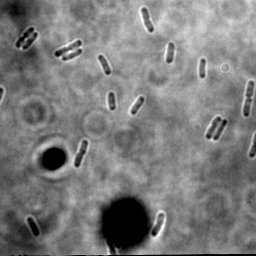Dividing: (54, 39, 82, 58), (73, 138, 90, 168), (14, 25, 35, 49), (242, 79, 255, 117), (204, 115, 222, 140), (140, 6, 155, 33), (151, 212, 166, 238)
Rod: (25, 215, 41, 238), (129, 95, 146, 116), (213, 119, 229, 141), (60, 47, 83, 62), (97, 54, 112, 76), (21, 32, 39, 50), (164, 42, 176, 64), (197, 57, 207, 80), (107, 91, 117, 111)
